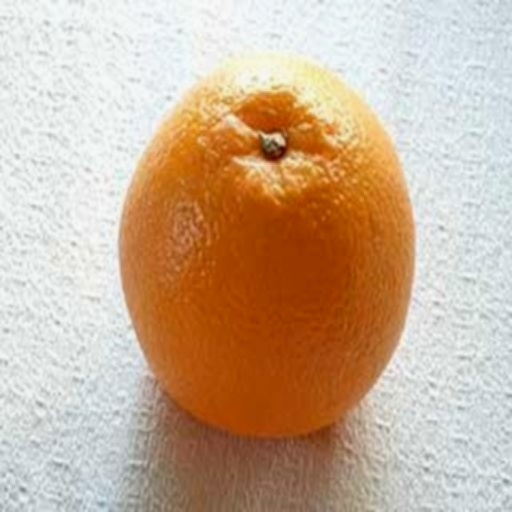fruit: (331, 147, 469, 512)
